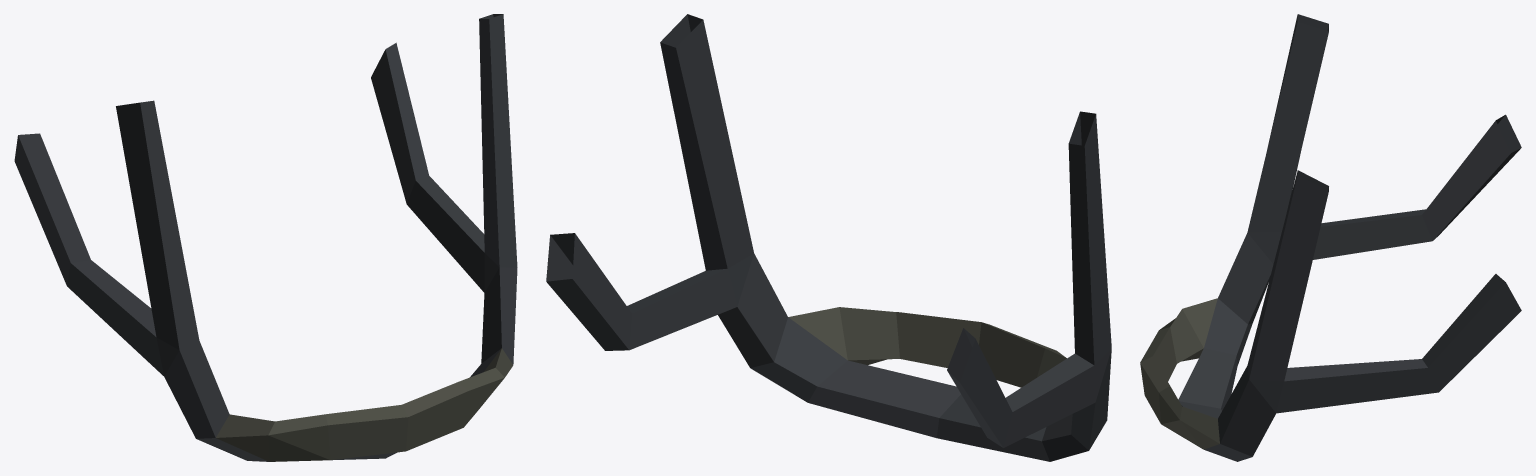
File: SM_Chr_Attach_Chin_Strap_01_Male.fbx
3 views of the same model, side by side, from view 1: azimuth 30°, elevation 25°; view 2: azimuth 150°, elevation 25°; view 3: azimuth 270°, elevation 25° (orthographic). The views are drawn at different scales.
Parts seen in each view (by area): view 1: SM_Chr_Attach_Chin_Strap_01_Male; view 2: SM_Chr_Attach_Chin_Strap_01_Male; view 3: SM_Chr_Attach_Chin_Strap_01_Male.
Boxes of the visible parts, x1,y1,x2,y2 form: SM_Chr_Attach_Chin_Strap_01_Male: [14, 14, 517, 461]; SM_Chr_Attach_Chin_Strap_01_Male: [546, 14, 1111, 461]; SM_Chr_Attach_Chin_Strap_01_Male: [1140, 14, 1521, 461].
Bounding box in the file's own units: 24.07 × 22.01 × 23.15.
